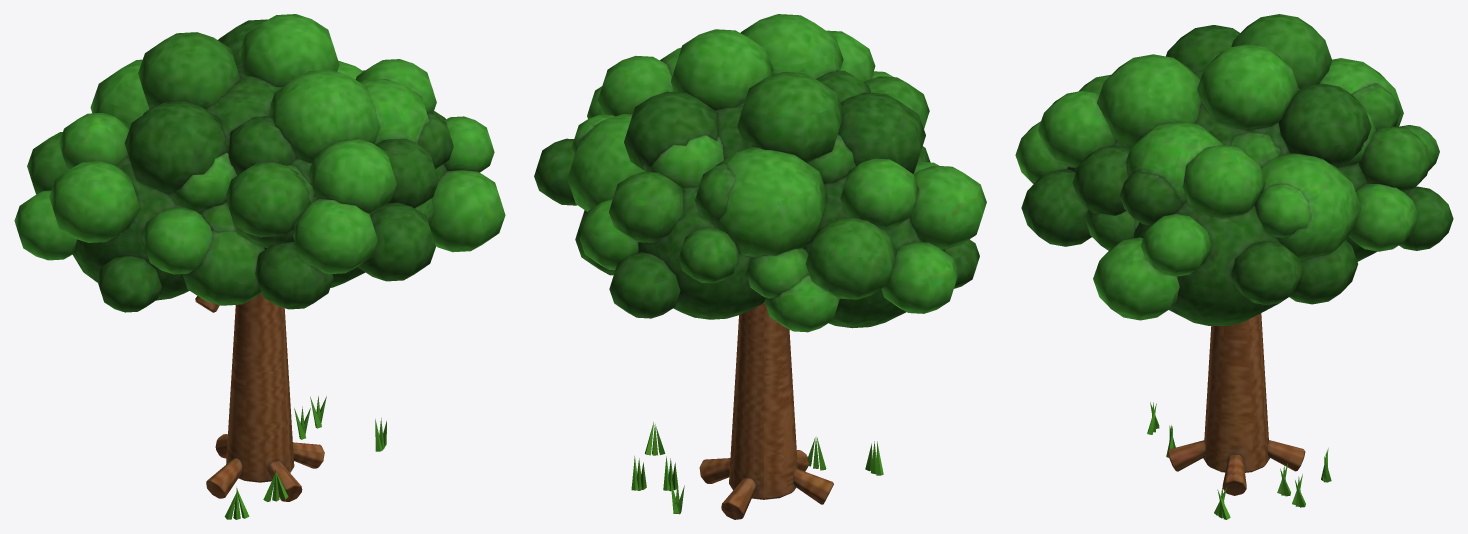
File: durian_tree.glb
3 views of the same model, side by side, from view 1: azimuth 30°, elevation 25°; view 2: azimuth 150°, elevation 25°; view 3: azimuth 270°, elevation 25° (orthographic). The views are drawn at different scales.
Visible parts, largest first — view 1: crown, durian_tree; view 2: crown, durian_tree; view 3: crown, durian_tree.
Part boxes in pixels (x1,y1,x2,y2): crown: (14,14,505,312); durian_tree: (195,293,386,519); crown: (534,14,986,332); durian_tree: (631,302,883,519); crown: (1015,14,1453,325); durian_tree: (1147,313,1331,519).
Size of the model in its own units: 1.27 by 1.3 by 1.17.
1 material, 1 textured.
